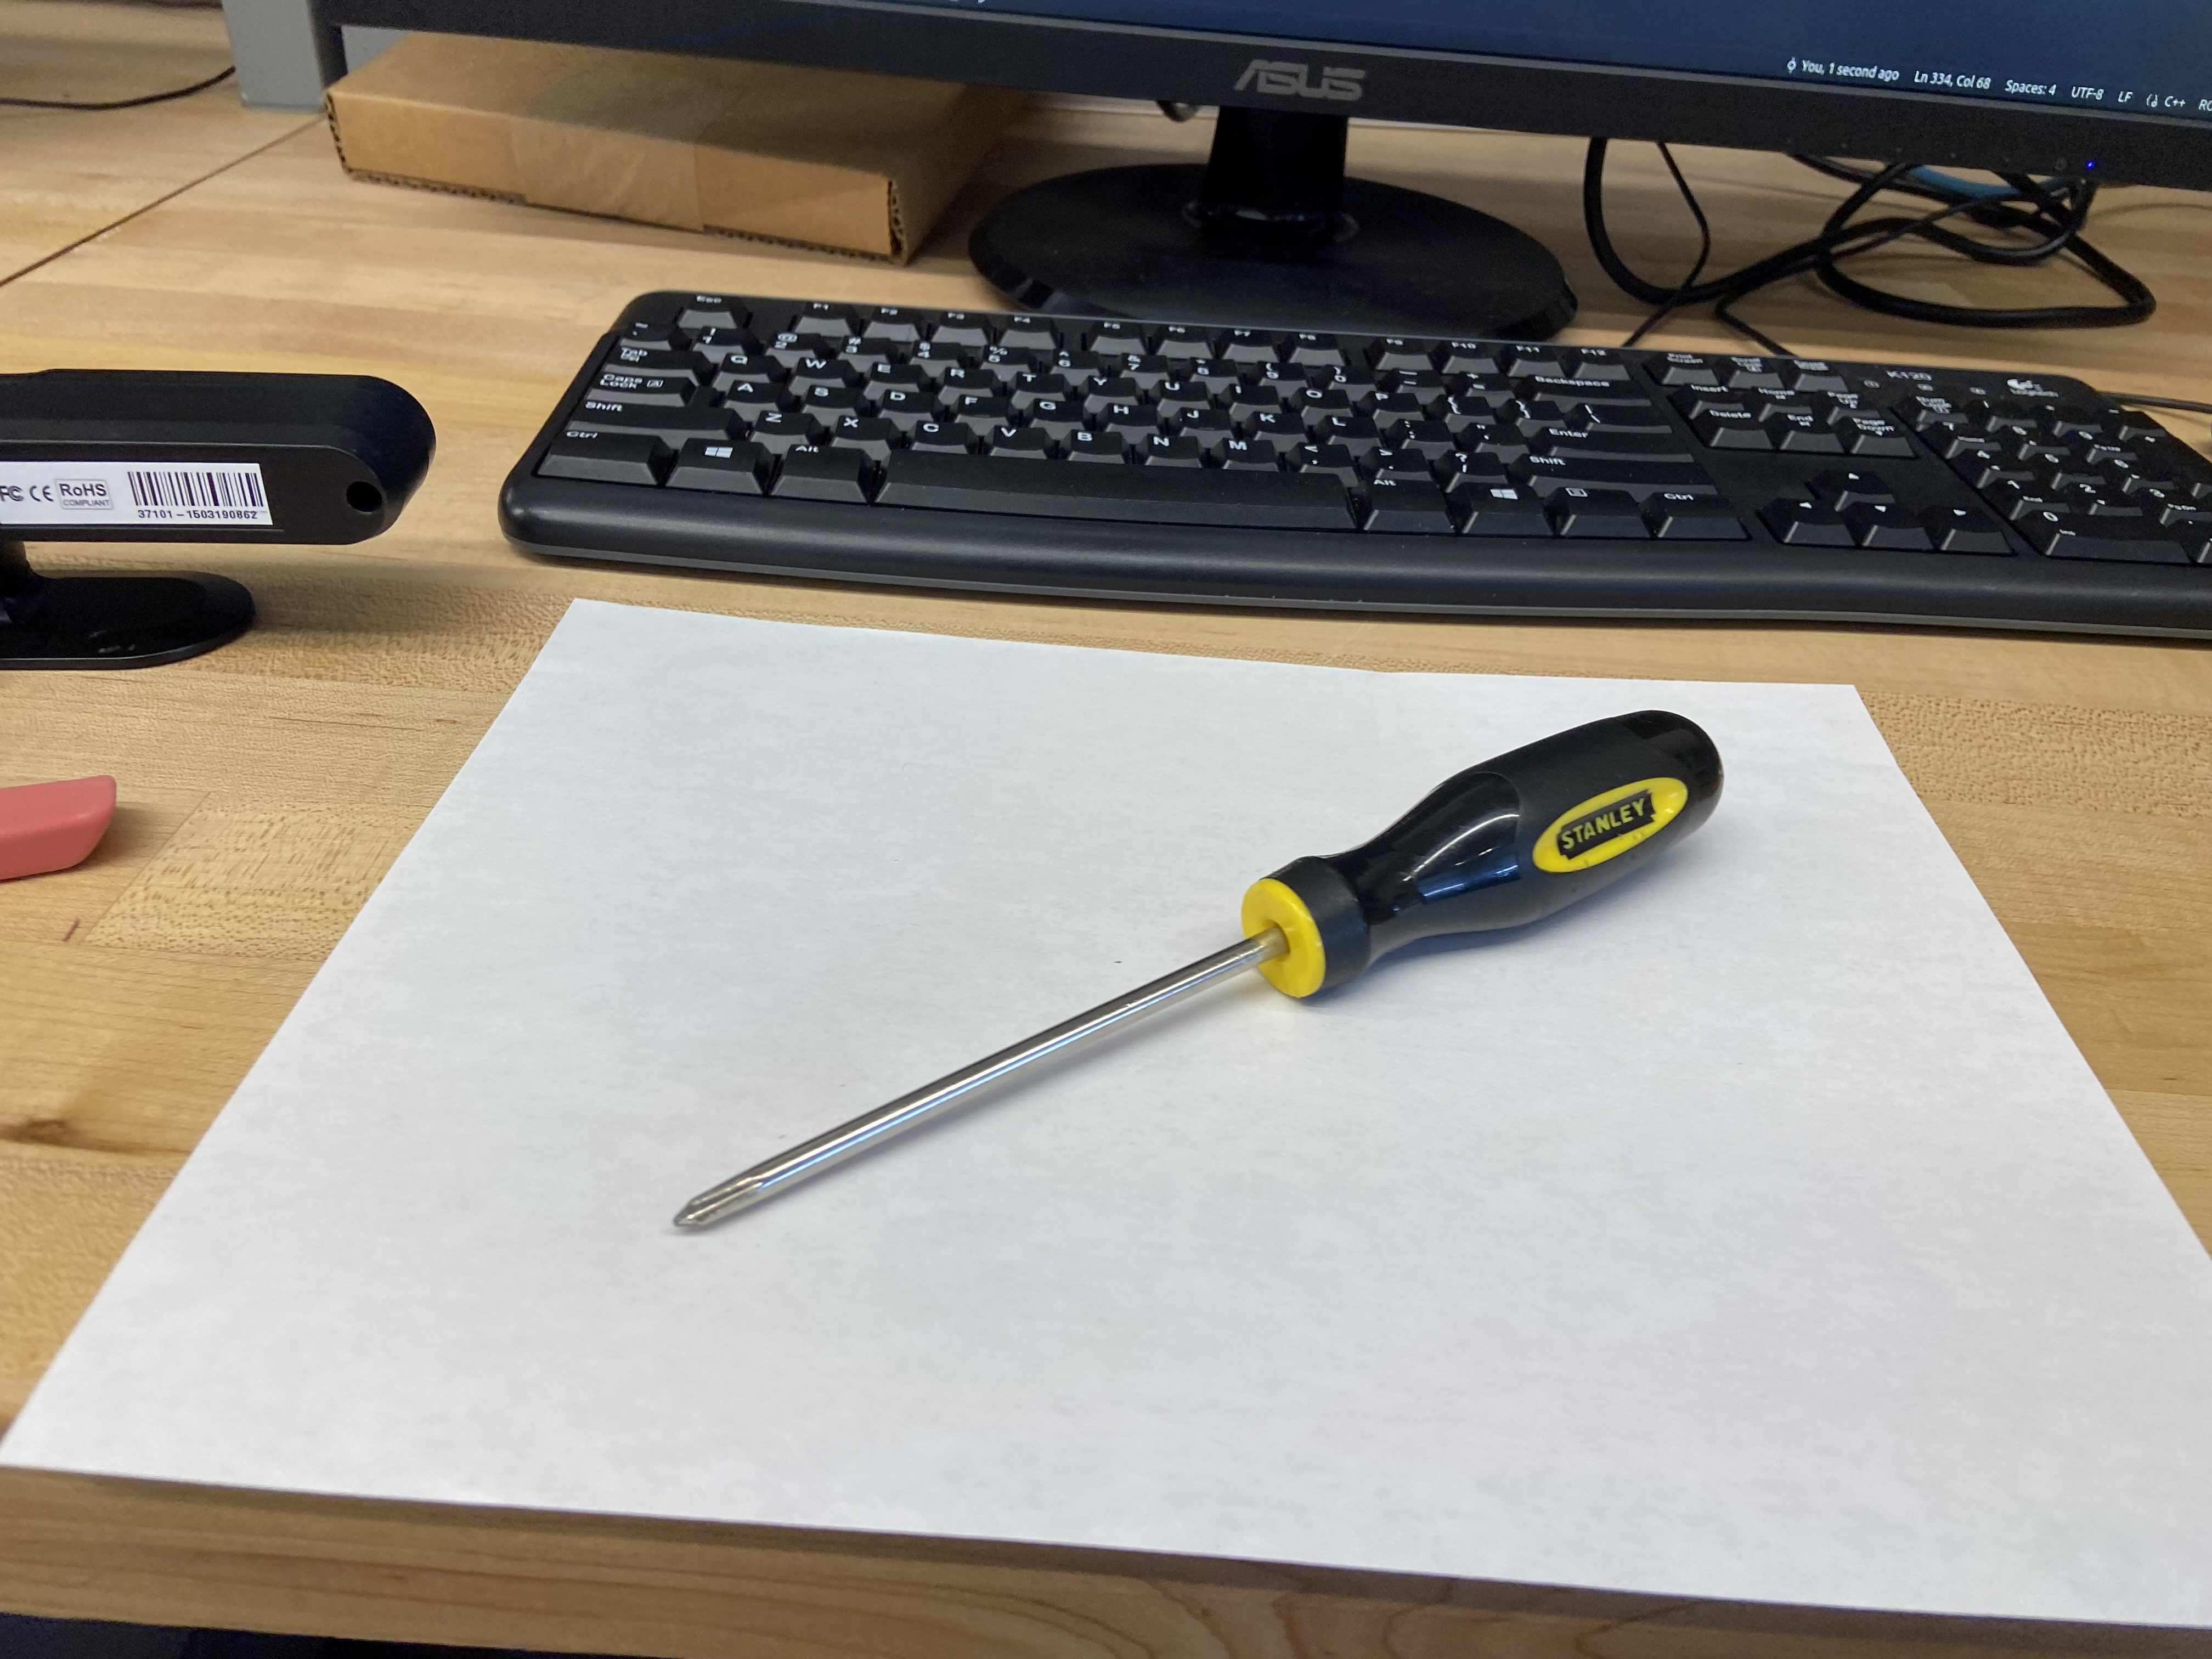screwdriver: (672, 713, 1724, 1234)
